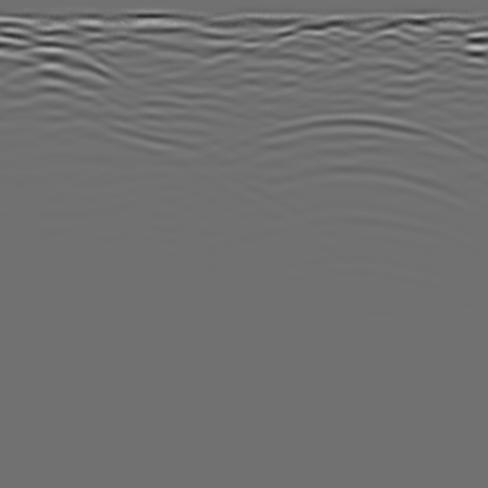hyperbola: (204, 101, 488, 209)
